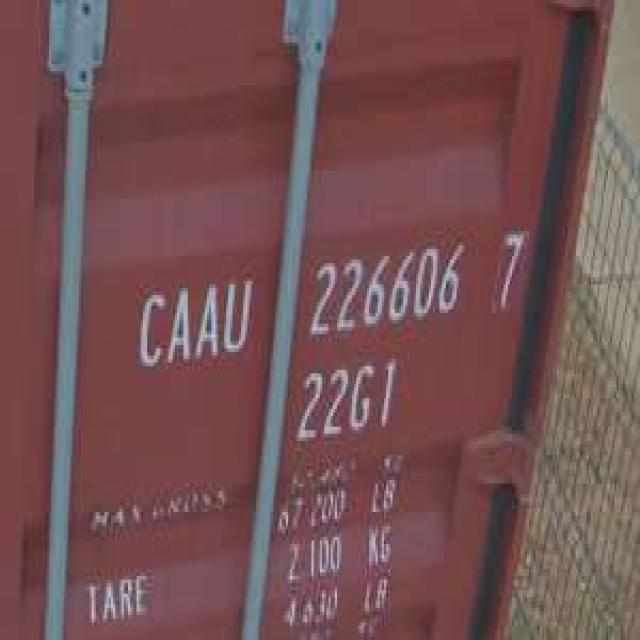dv: (491, 220, 529, 316)
owner: (130, 267, 256, 377)
serial: (301, 235, 467, 341)
size: (292, 352, 401, 444)
